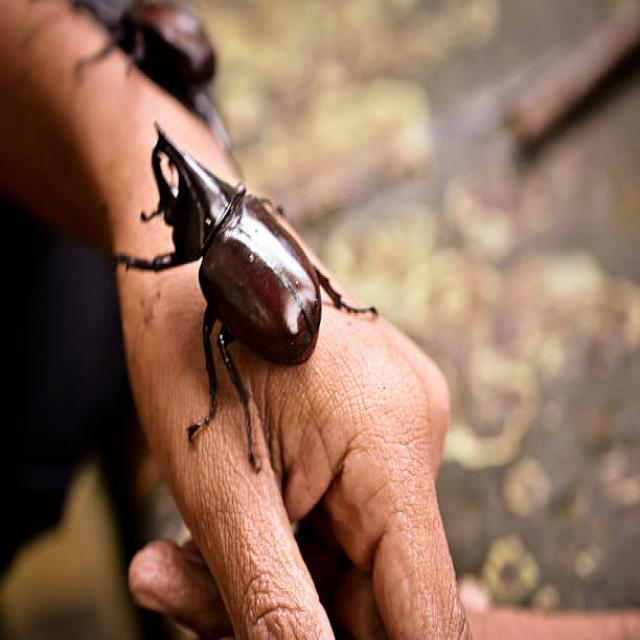Rhino-beetle: (140, 113, 354, 398)
